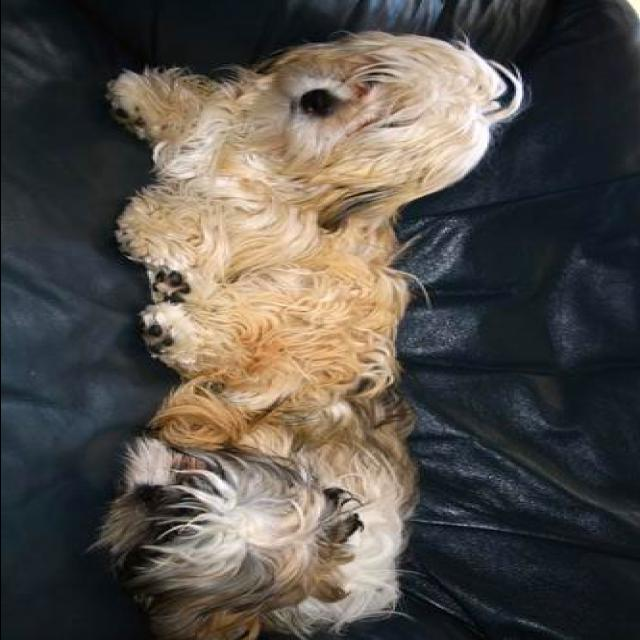shih_tzu: (104, 29, 526, 418), (100, 418, 427, 634)
